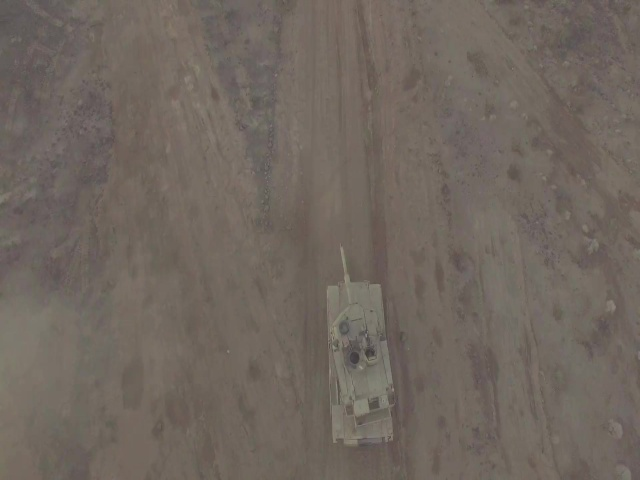vehicle: (321, 278, 398, 446)
